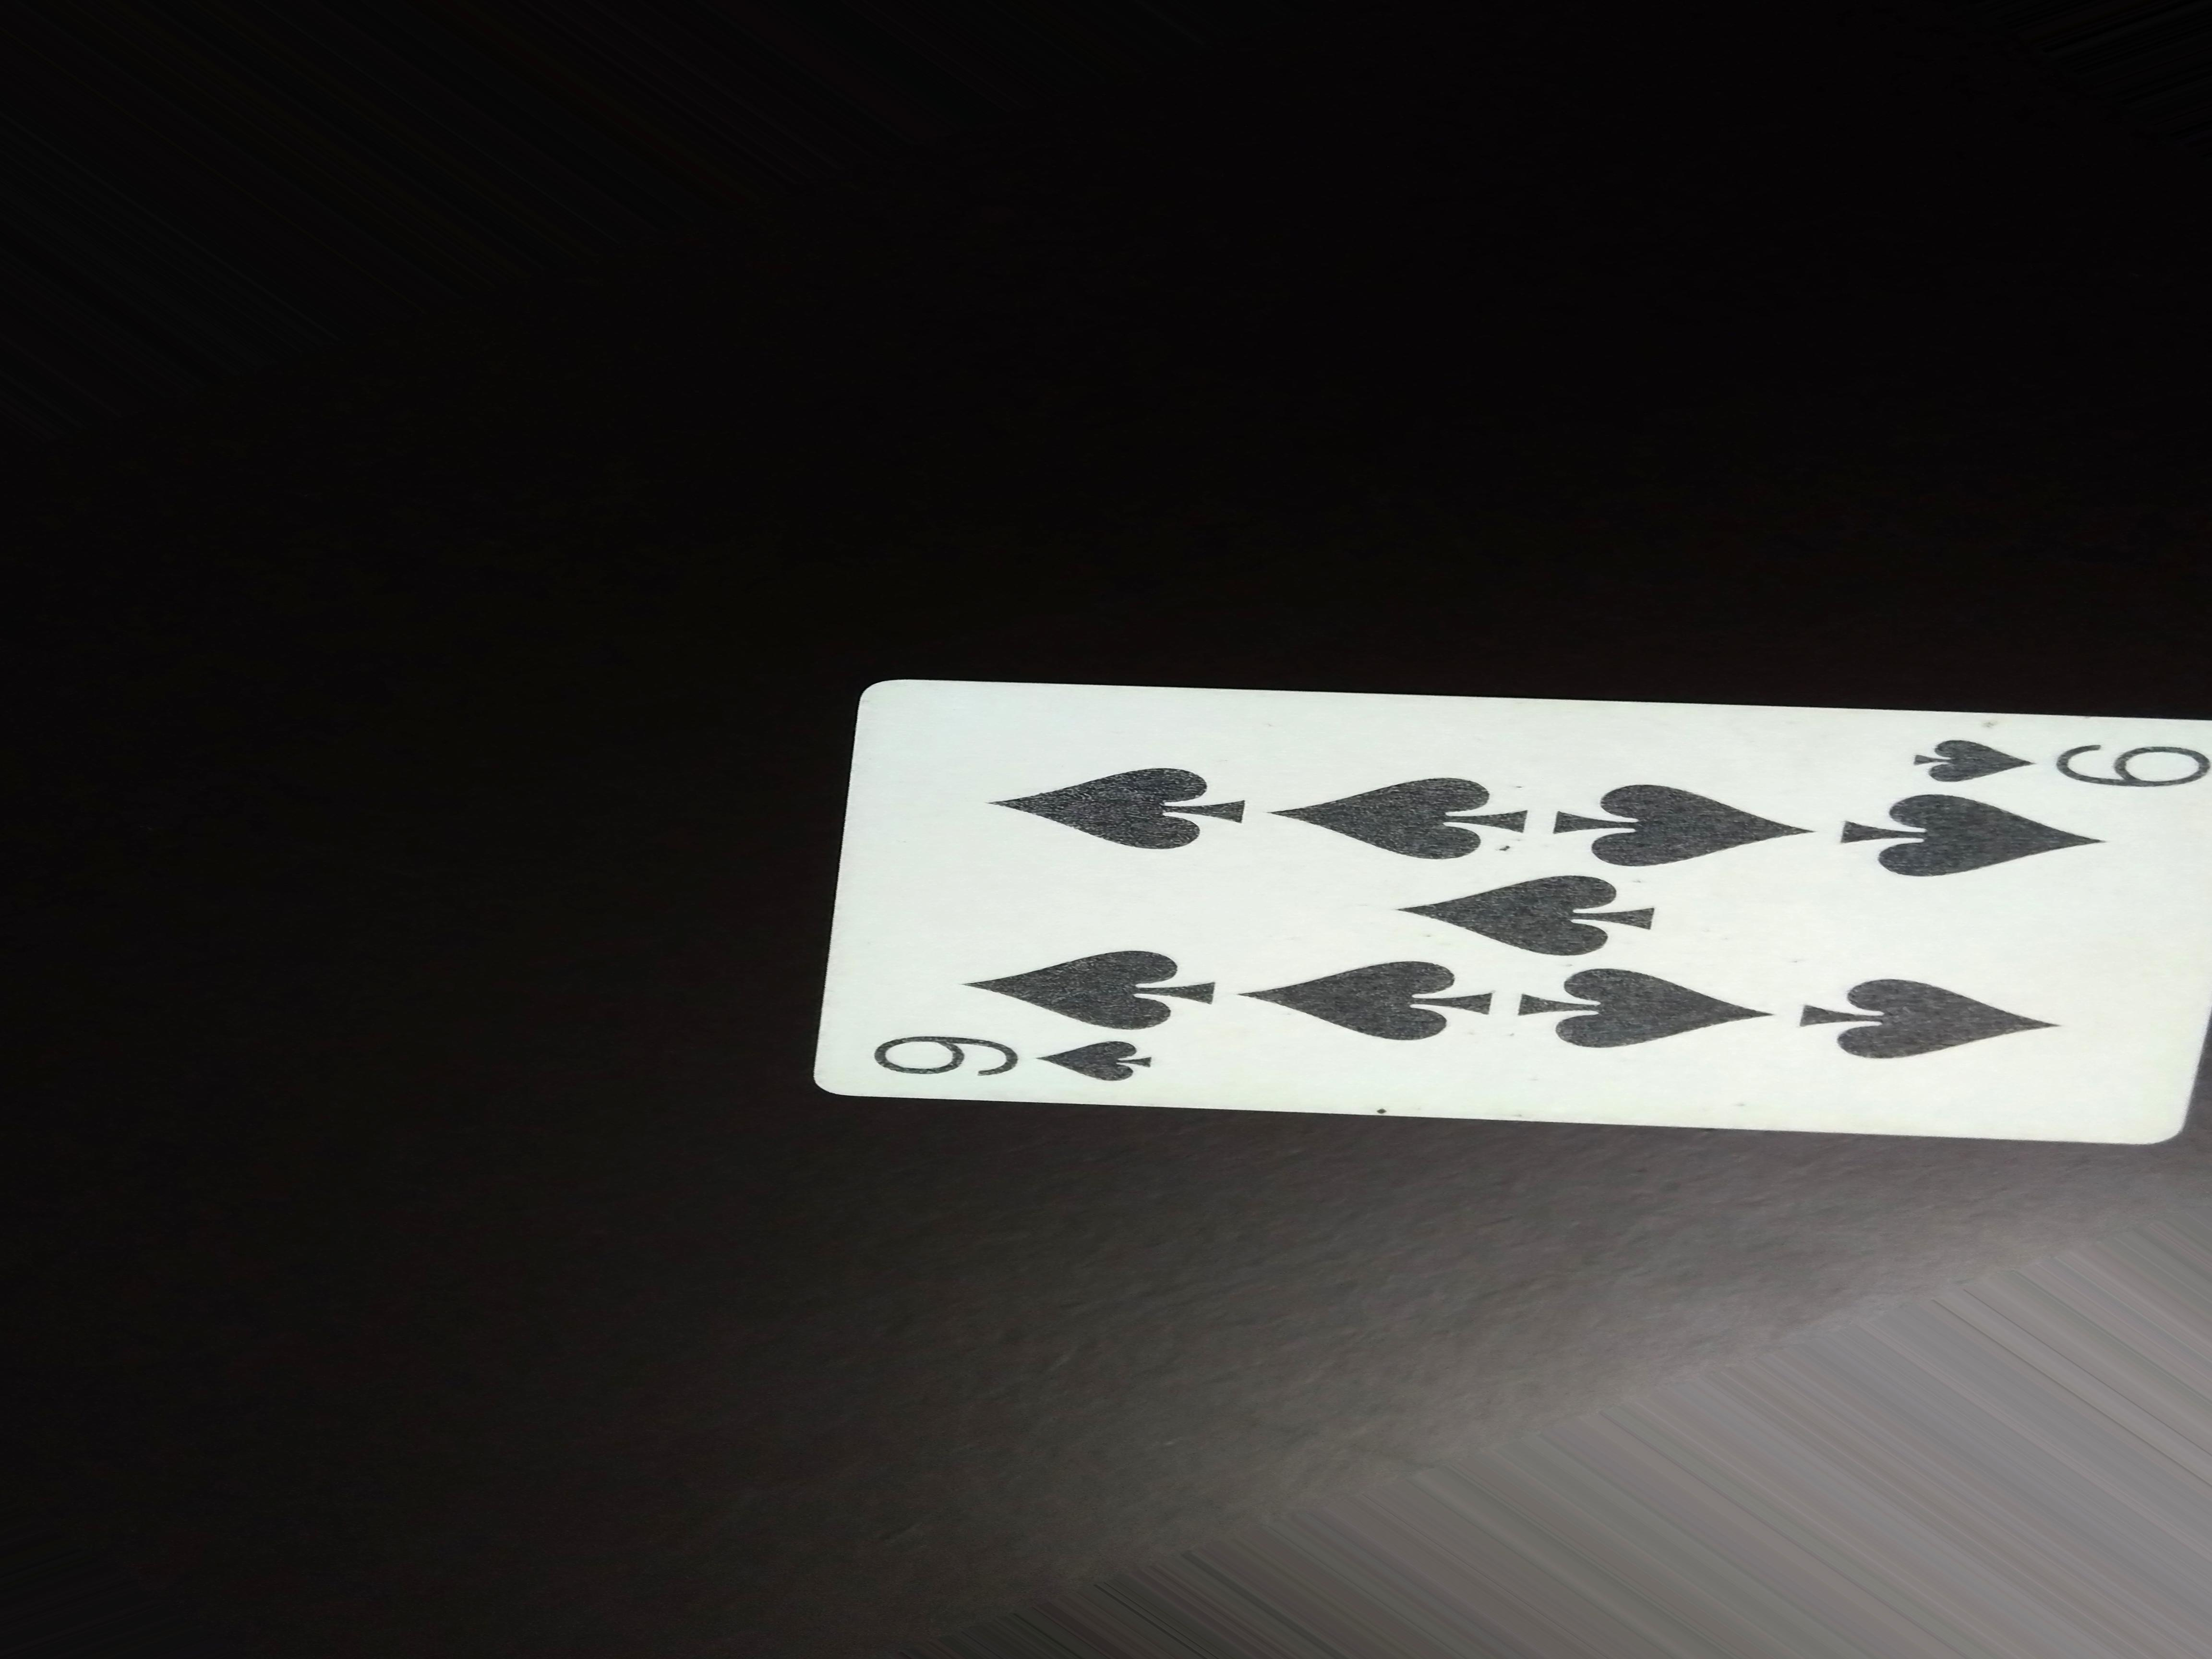9S: (836, 1021, 1198, 1121)
